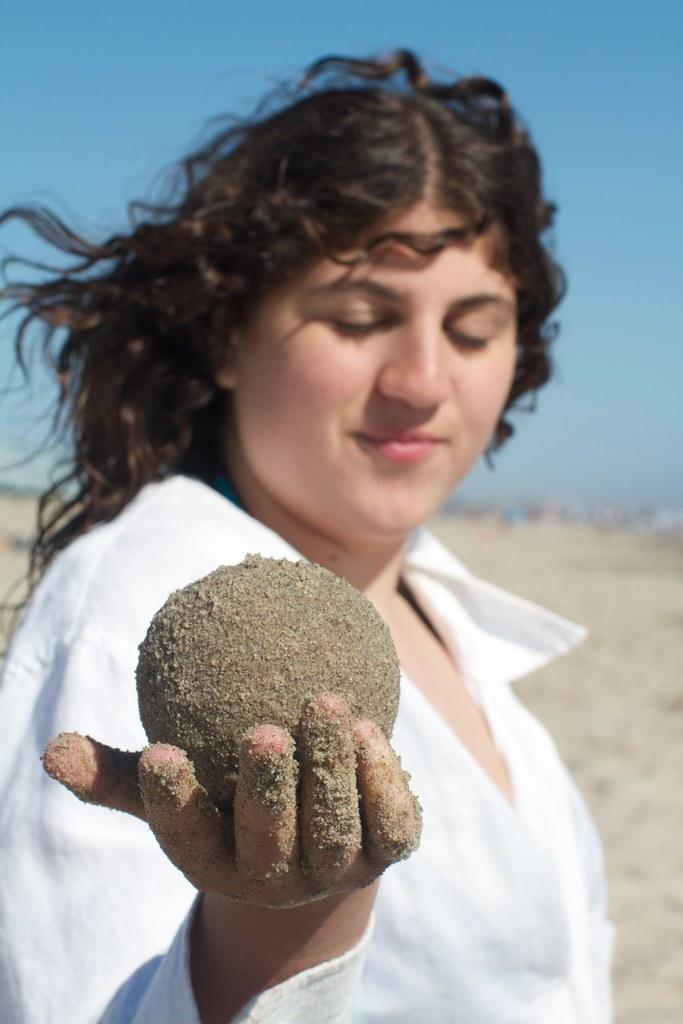Sem Máscara: (233, 194, 513, 538)
